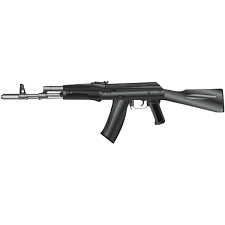gun: (1, 75, 223, 143)
